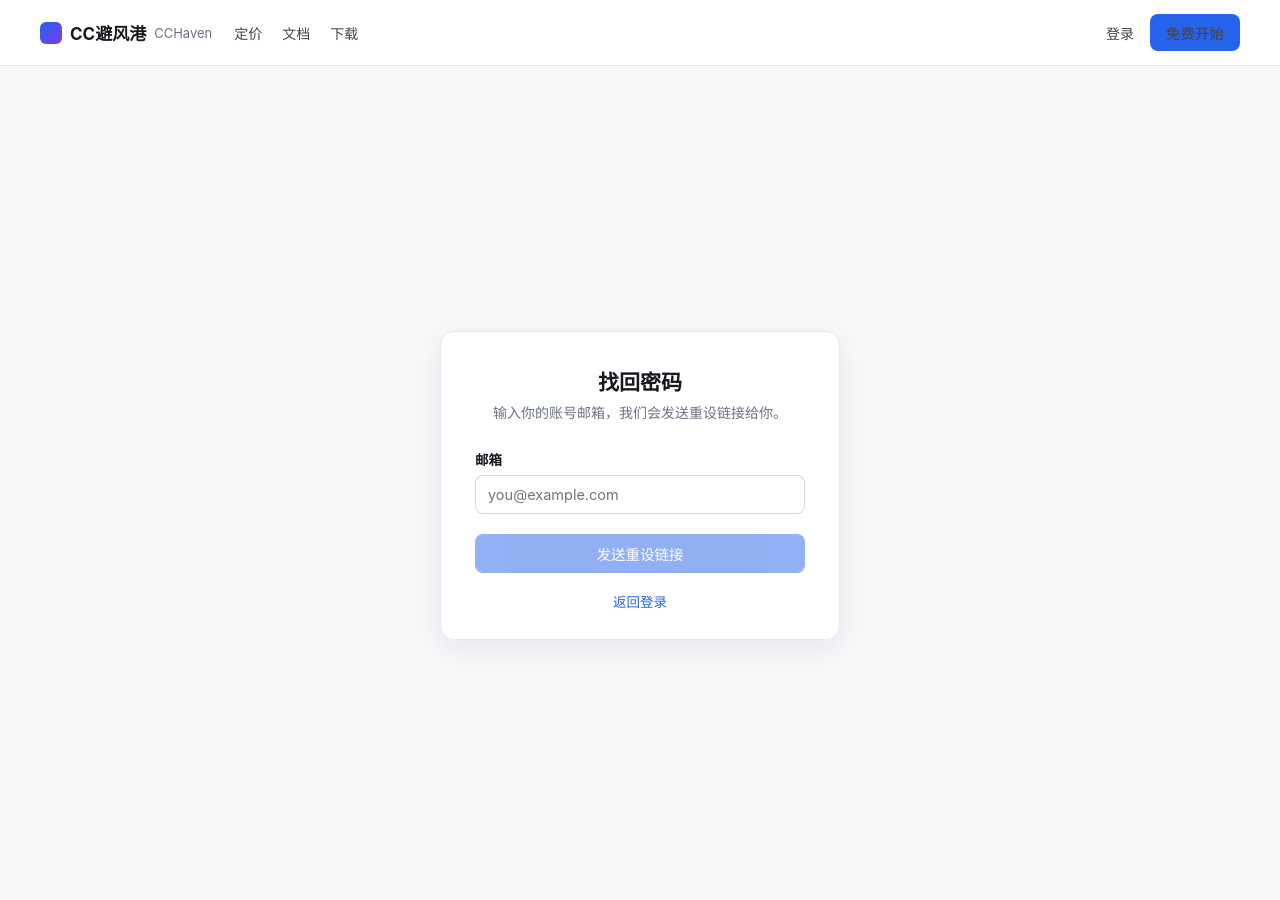
it: 忘记密码 /forgot-password › 提交后展示 6.2 节恒定回执，且回执与邮箱是否注册无关
Type "nobody@example.com" into the field labelled "邮箱" at x=640, y=494, box [475, 475, 805, 514]
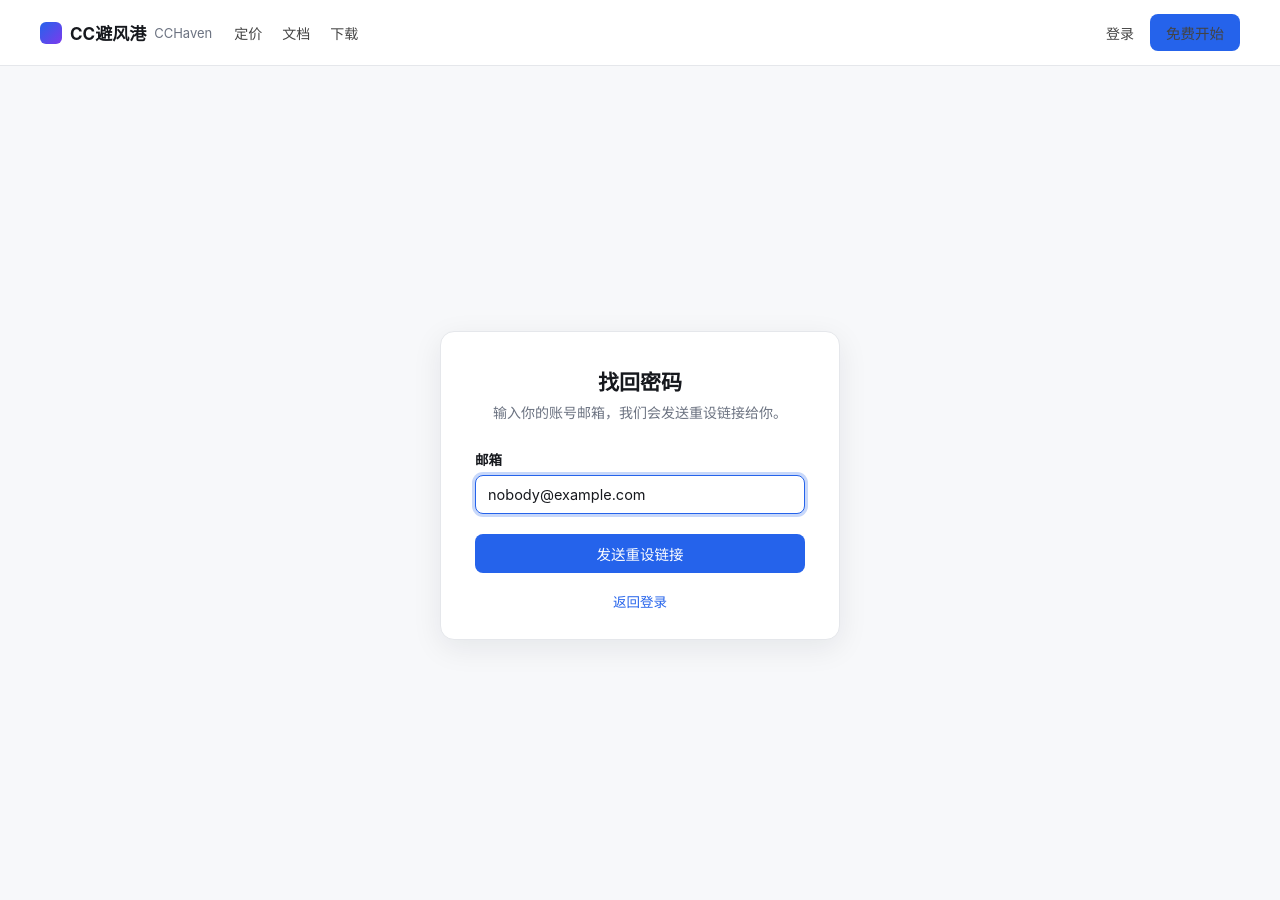
Click the button "发送重设链接" at x=640, y=553, box [475, 534, 805, 573]
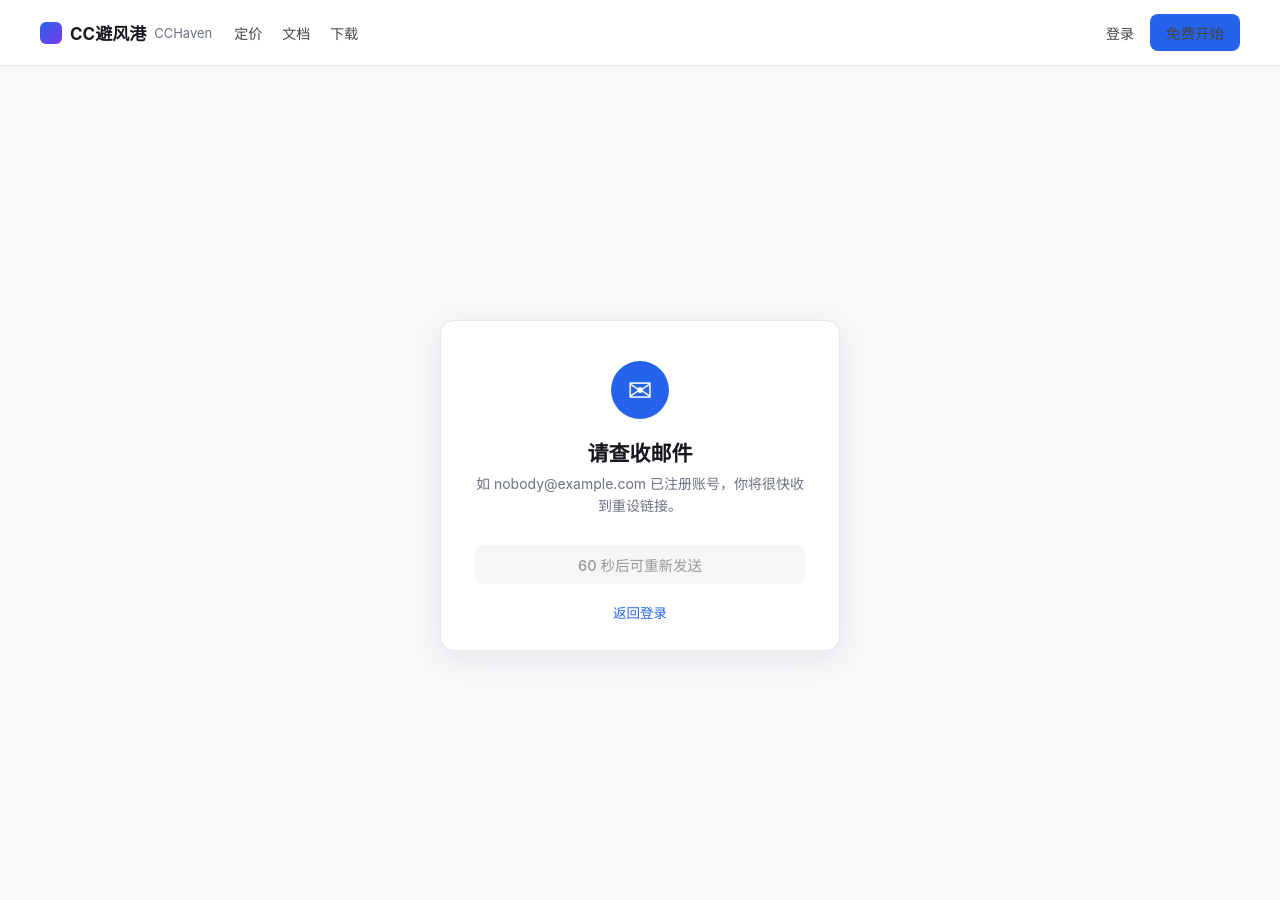
Expected: the text "如 nobody@example.com 已注册账号，你将很快收到重设链接。" is shown, [475, 473, 805, 517]
